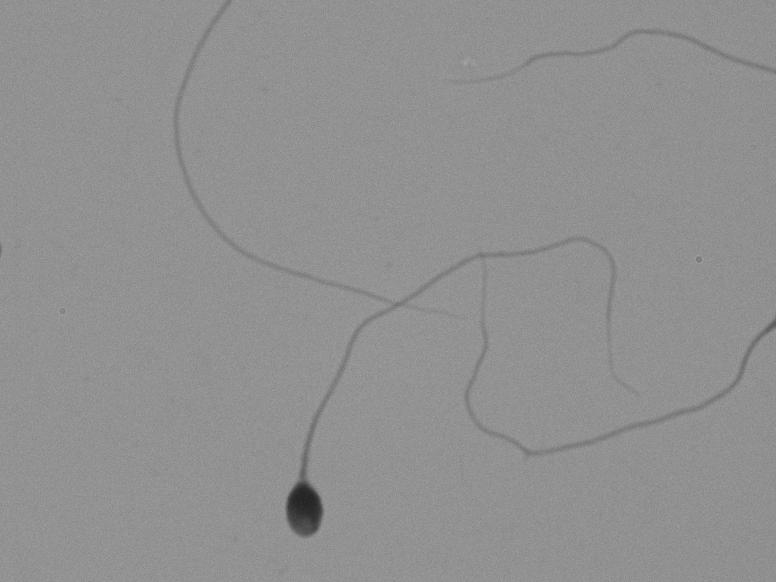Normal: (265, 187, 649, 550)
